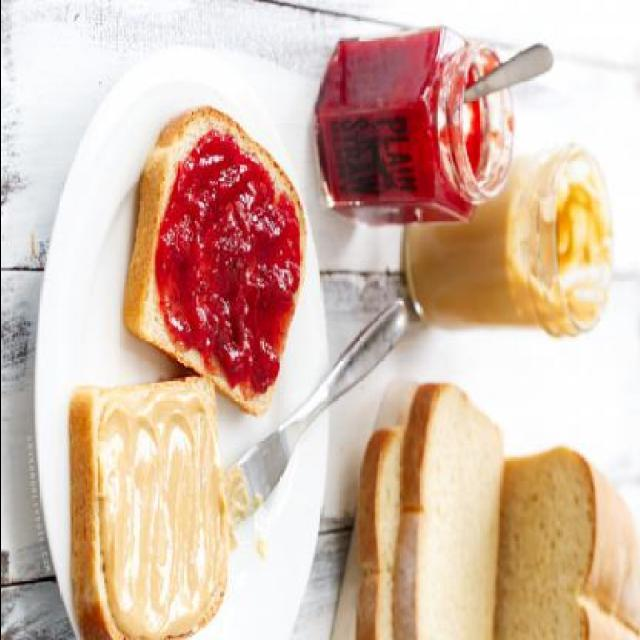Spread: (158, 130, 292, 382), (107, 399, 215, 615)
